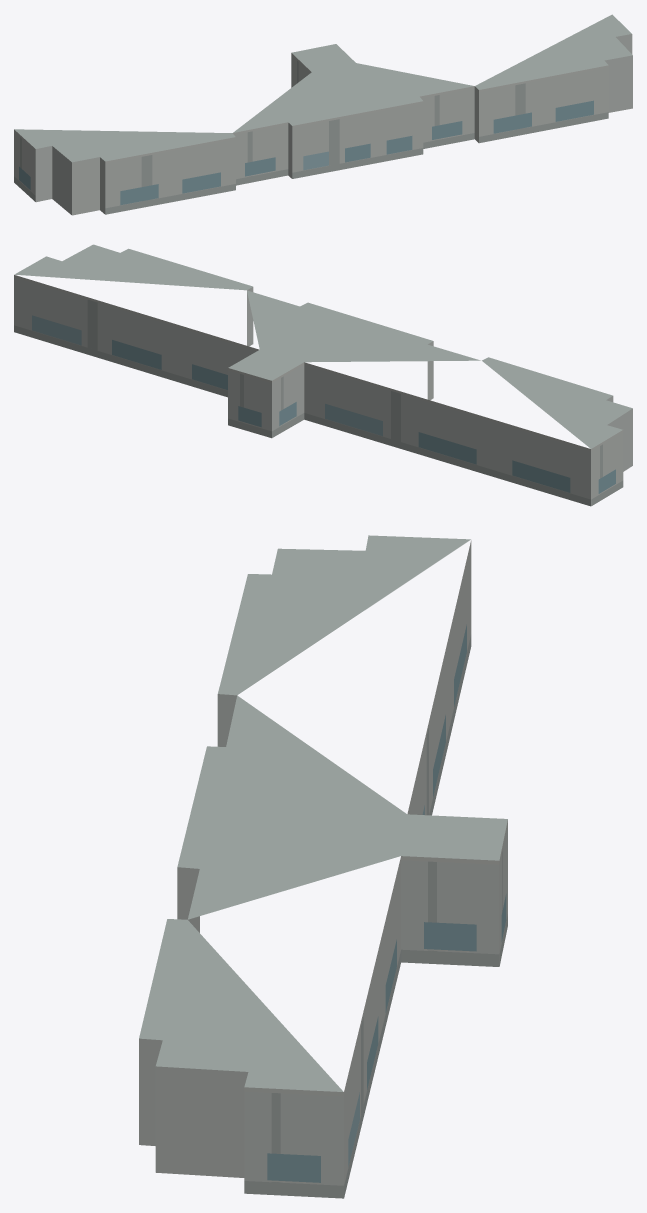
The model's file is survey-upis-32541022.glb.
3 renders of one model, top to bottom at view 1: azimuth 30°, elevation 25°; view 2: azimuth 150°, elevation 25°; view 3: azimuth 270°, elevation 25°, orthographic. The views are drawn at different scales.
Parts seen in each view (by area): view 1: survey-upis-32541022.tmp; view 2: survey-upis-32541022.tmp; view 3: survey-upis-32541022.tmp.
Part boxes in pixels (x1,y1,x2,y2): survey-upis-32541022.tmp: (14, 14, 632, 215); survey-upis-32541022.tmp: (14, 244, 632, 506); survey-upis-32541022.tmp: (139, 535, 507, 1198).
Size of the model in its own units: 68.47 by 6.1 by 19.19.
